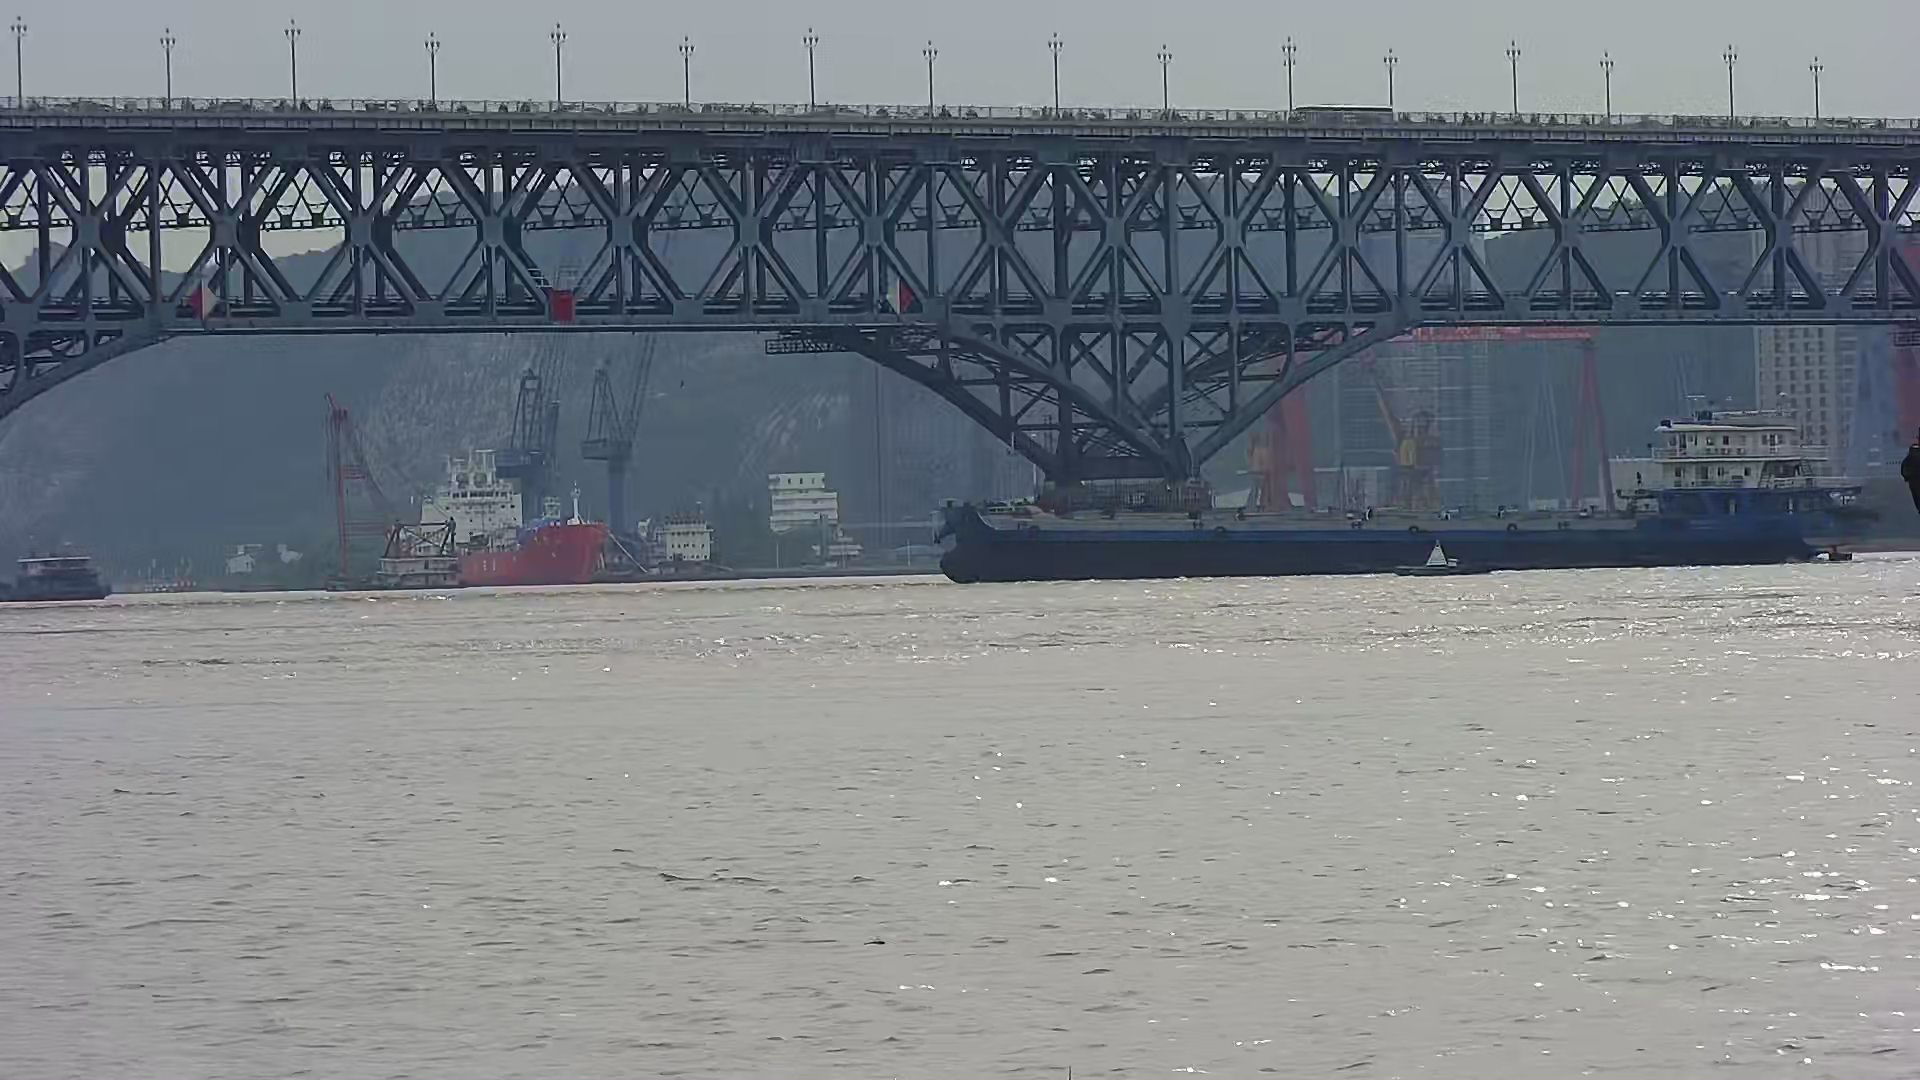boat: (1391, 529, 1495, 592)
bridge: (7, 11, 1920, 502)
ship: (940, 381, 1870, 588), (444, 475, 621, 592), (1, 534, 144, 613)
